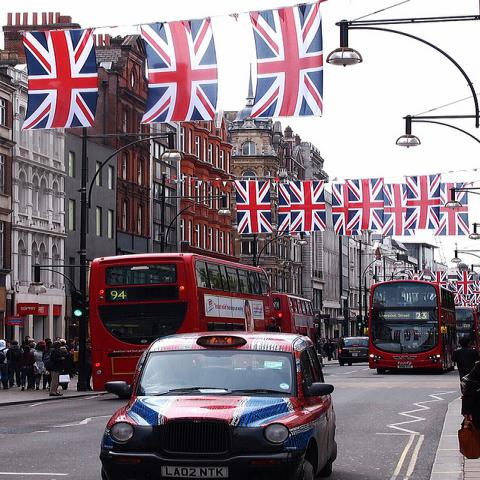bus: (75, 256, 284, 402), (369, 280, 457, 375), (270, 294, 316, 342), (453, 308, 479, 349)
car: (95, 337, 339, 478), (338, 337, 369, 366)
